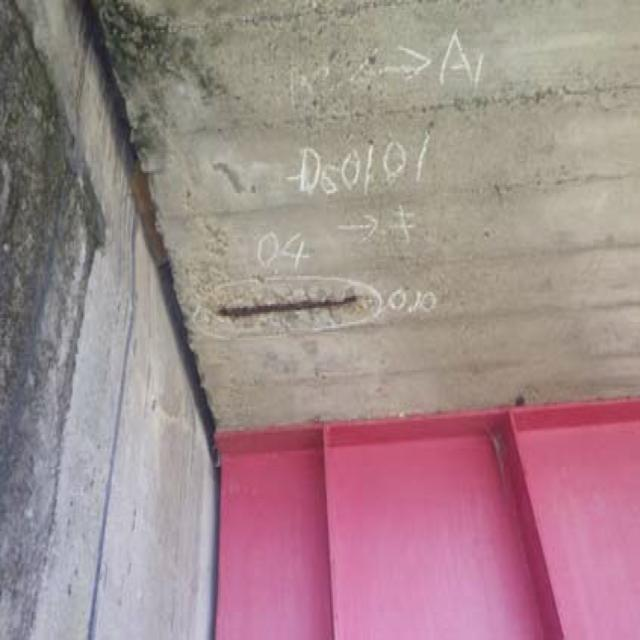spalling: (177, 233, 406, 357)
